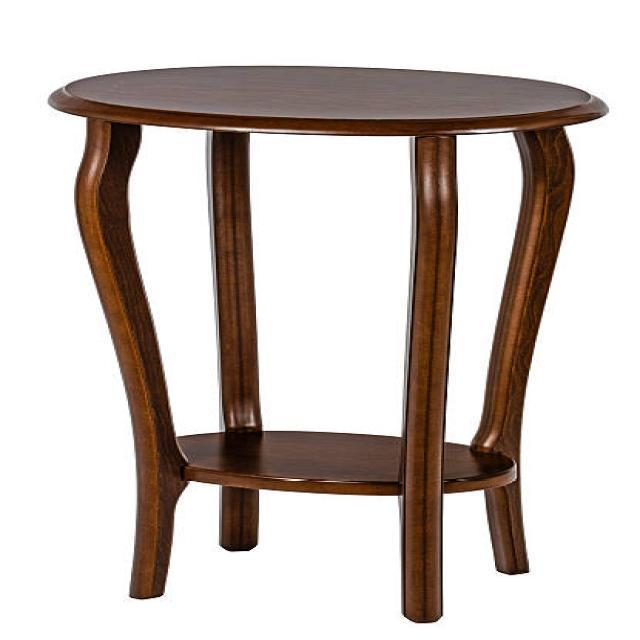table: (46, 63, 609, 622)
